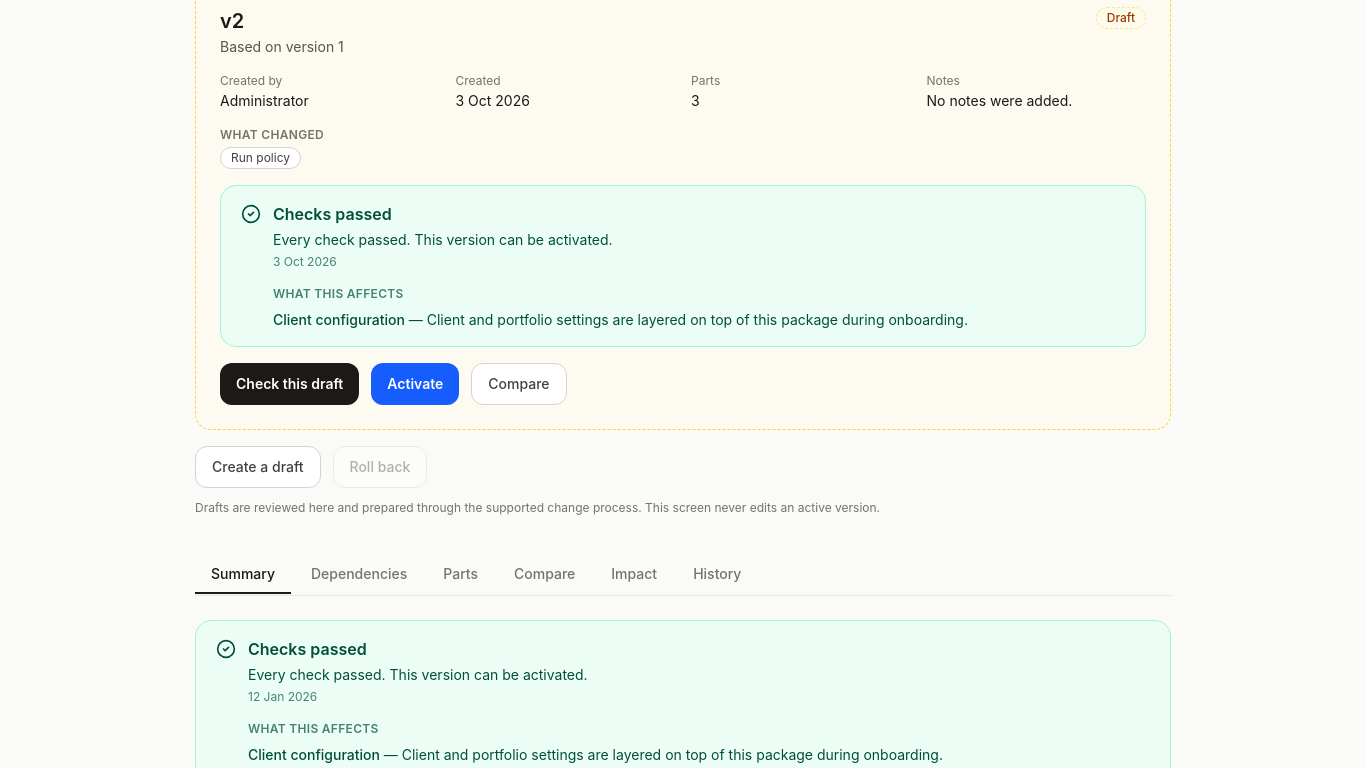
configuration lifecycle › activates a valid draft only after the confirmation dialog
(page scrolled)
Click the button "Activate". click: [415, 384]
box: [371, 363, 459, 405]
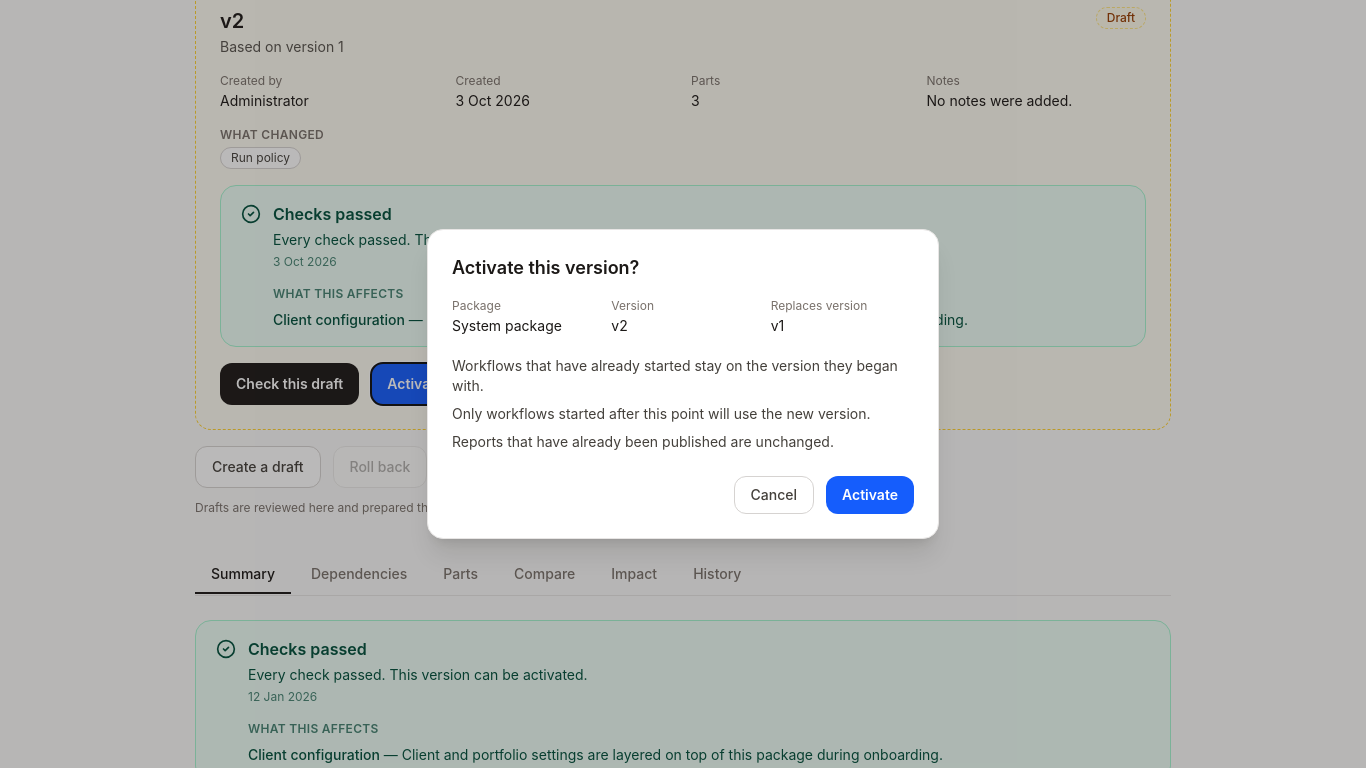
Now the heading "Activate this version?" is shown, box [452, 257, 639, 278]
Now the text "System package" is shown, box [452, 317, 562, 334]
Now the text "v2" is shown, box [611, 317, 628, 334]
Click the button "Activate". click: [870, 495]
box: [826, 476, 914, 514]
(page scrolled)
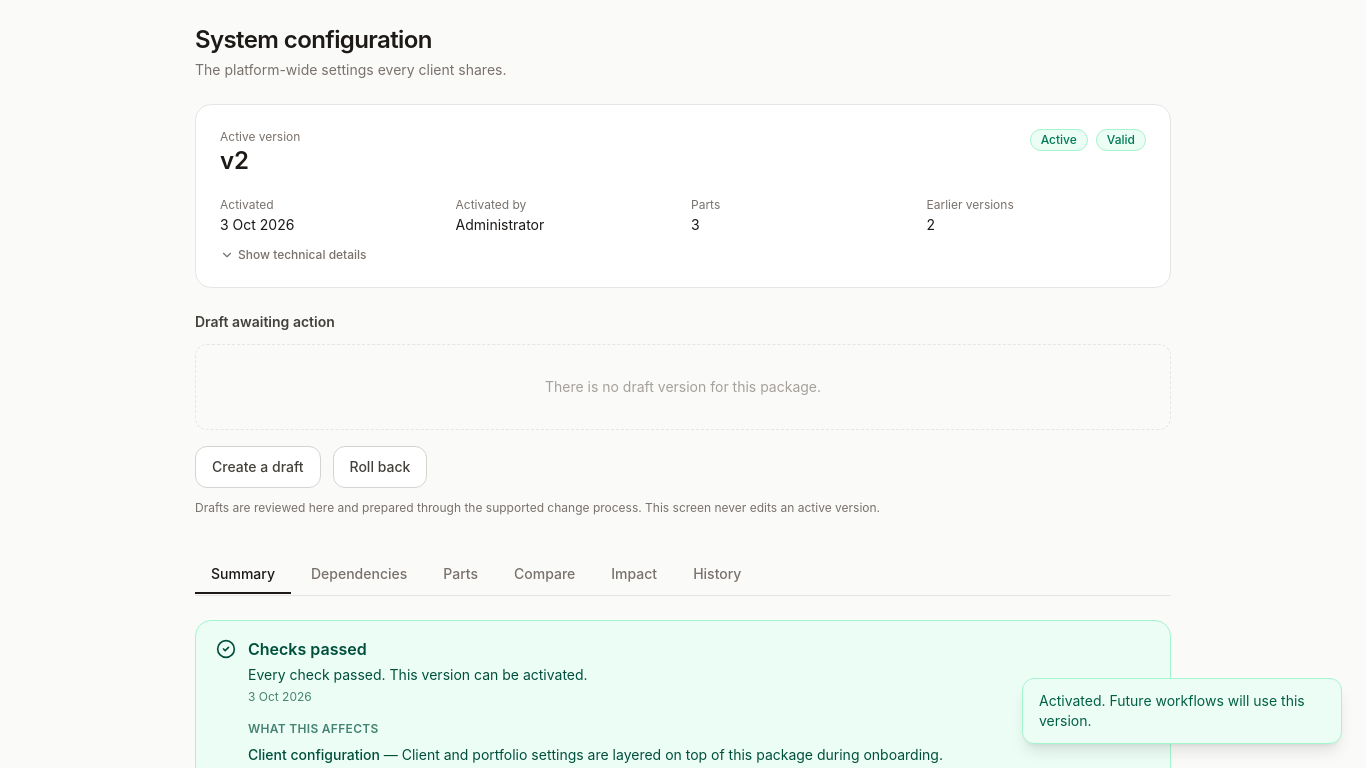
Now the text "There is no draft version for this package." is shown, box [195, 344, 1171, 430]
Now the text "v2" is shown, box [220, 146, 249, 175]
Now the text "Activated. Future workflows will use this version." is shown, box [1022, 678, 1342, 744]
